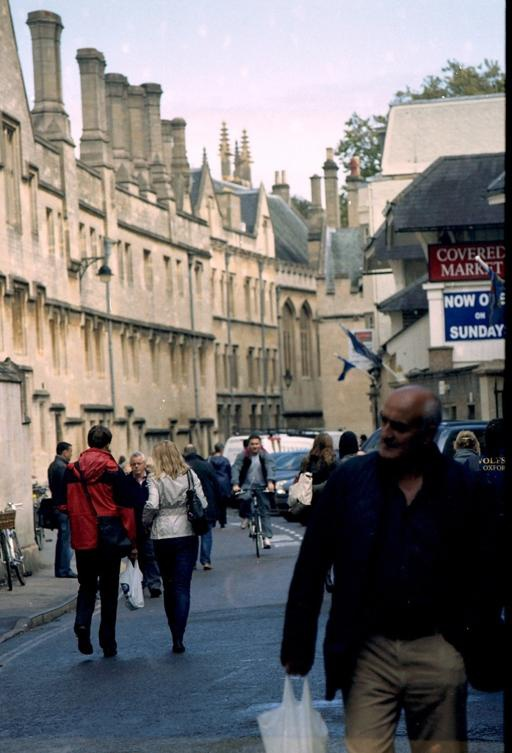non-vehicle: (234, 487, 276, 556), (0, 500, 25, 590), (32, 482, 52, 550)
